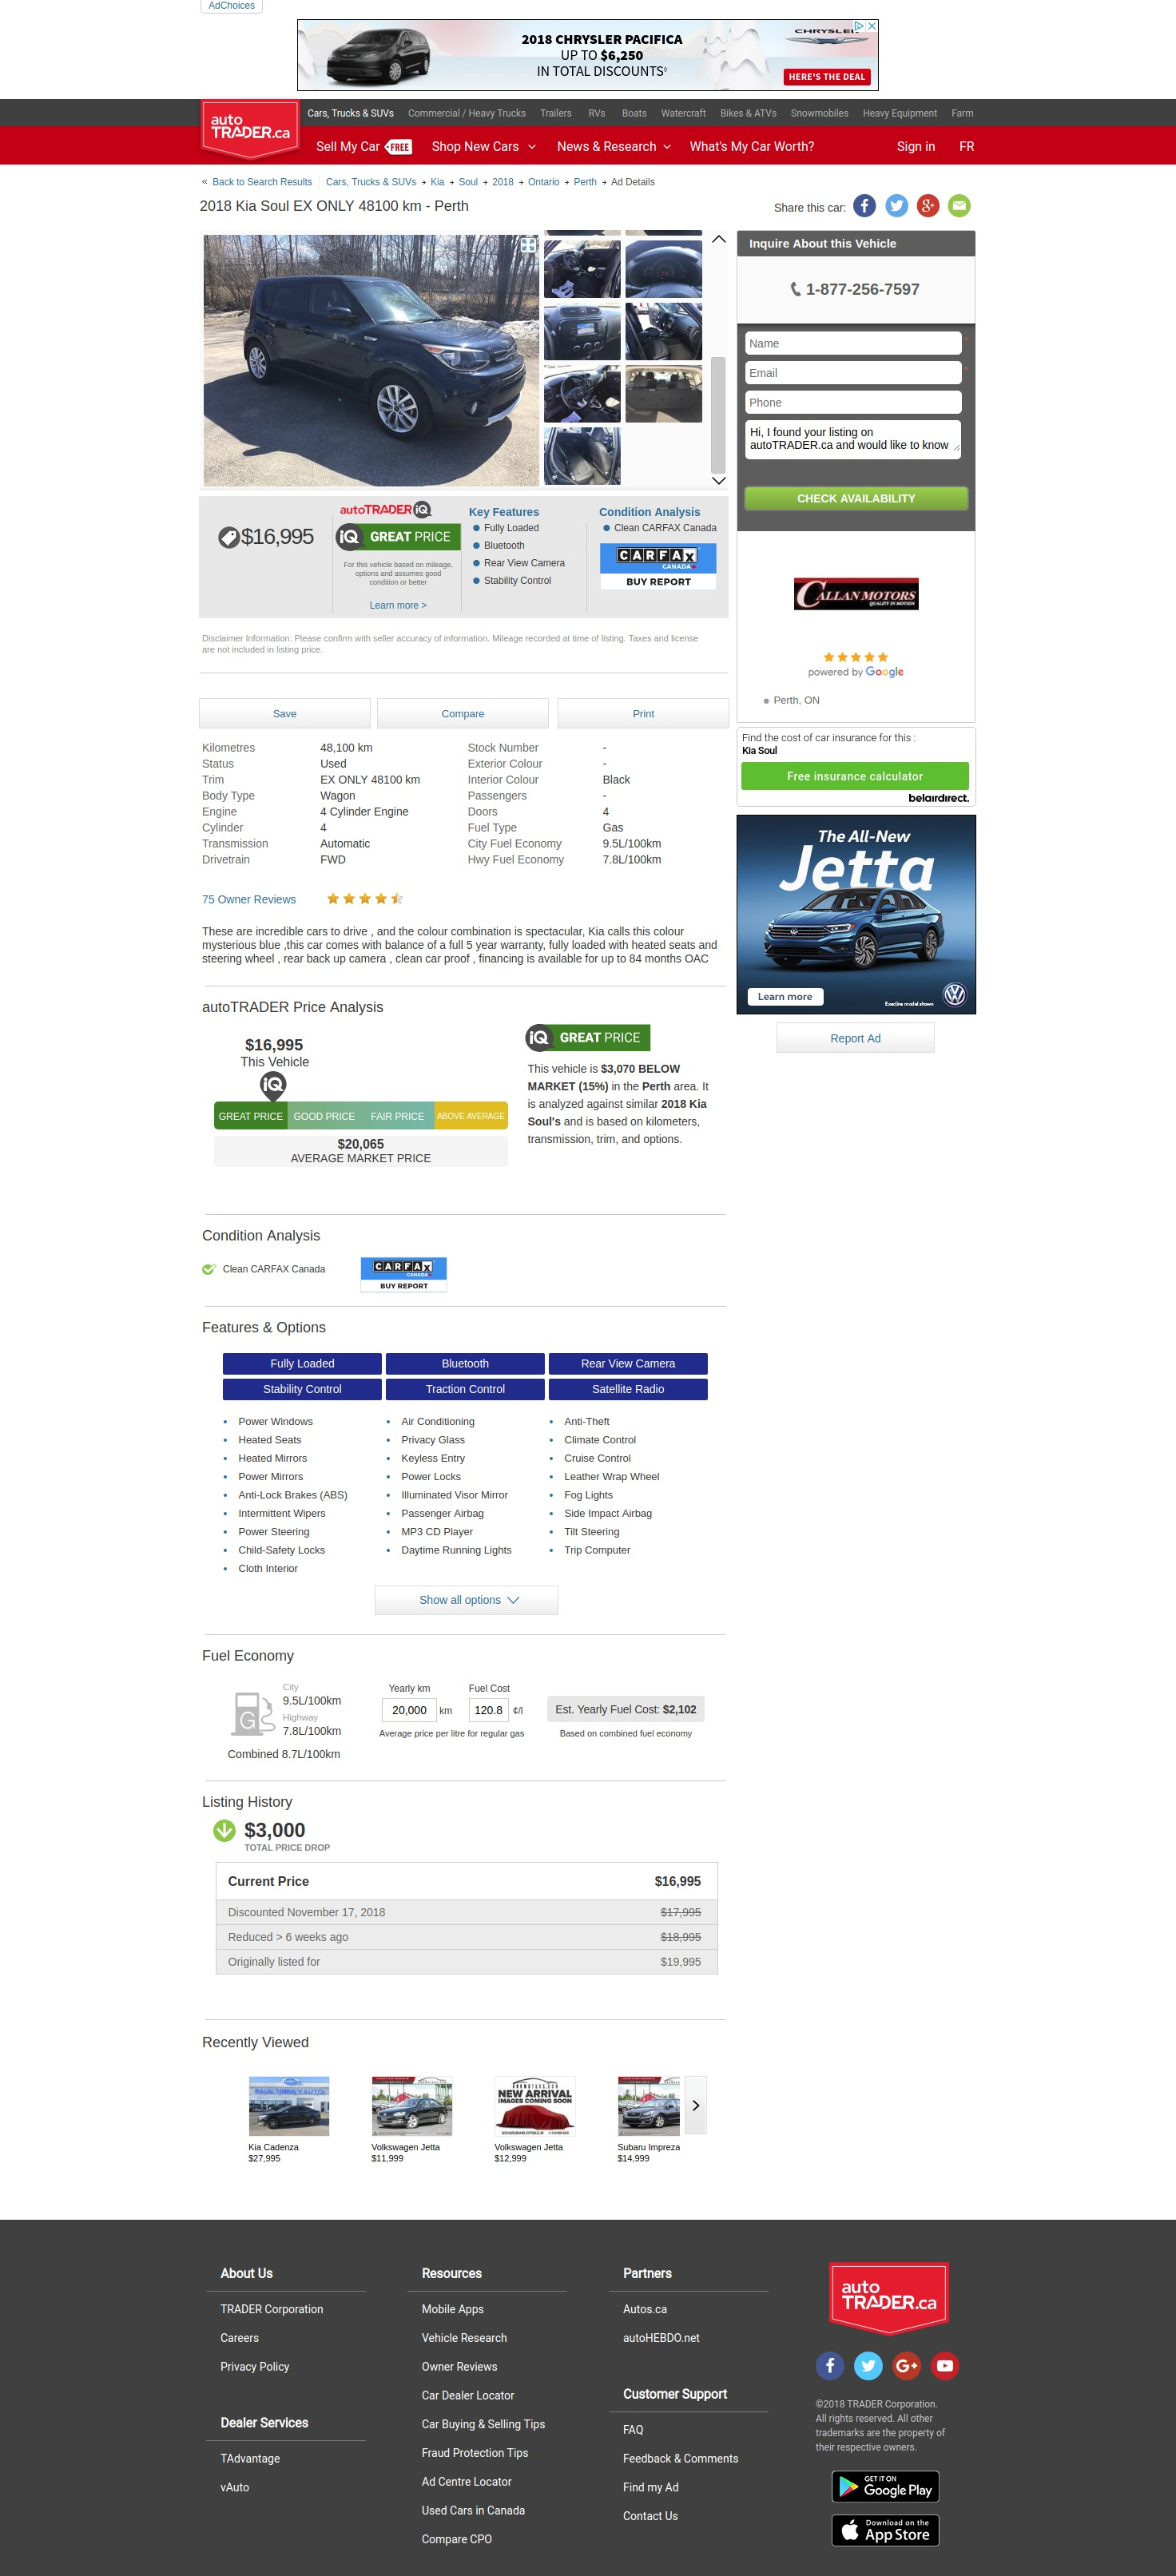car: (710, 476, 728, 486)
